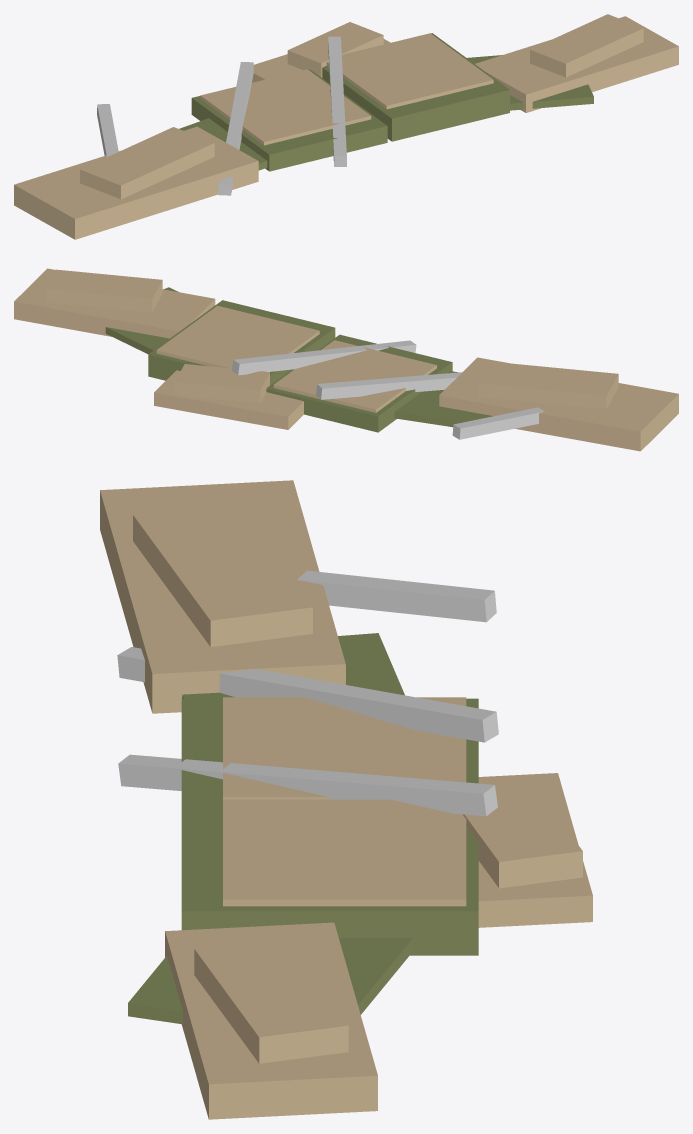
File: SM_HescoCorto2_v2_Escalonado_e3_Brecha_LOD1.fbx
3 views of the same model, one above another, from view 1: azimuth 30°, elevation 25°; view 2: azimuth 150°, elevation 25°; view 3: azimuth 270°, elevation 25° (orthographic). The views are drawn at different scales.
Visible parts, largest first — view 1: SM_hesco_piezas_v71_LOD1; view 2: SM_hesco_piezas_v71_LOD1; view 3: SM_hesco_piezas_v71_LOD1.
Boxes of the visible parts, bbox=[...] form: SM_hesco_piezas_v71_LOD1: bbox=[14, 14, 678, 239]; SM_hesco_piezas_v71_LOD1: bbox=[14, 268, 678, 451]; SM_hesco_piezas_v71_LOD1: bbox=[100, 480, 592, 1119].
Size of the model in its own units: 5.83 by 0.351 by 2.02.
